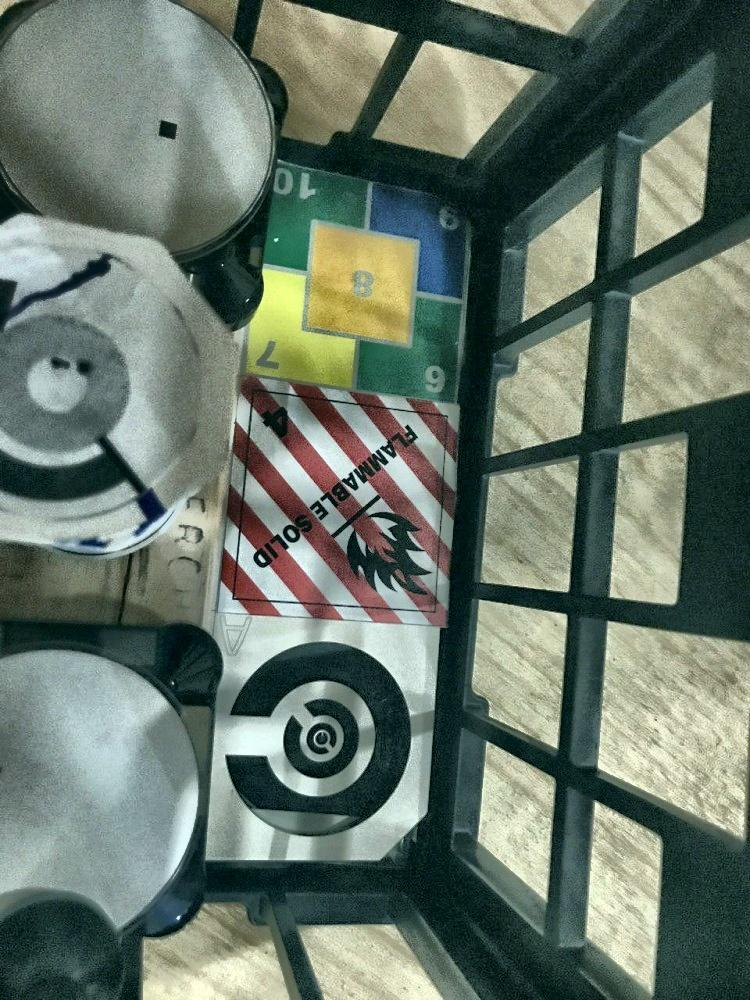flammable-solid: (217, 373, 462, 629)
